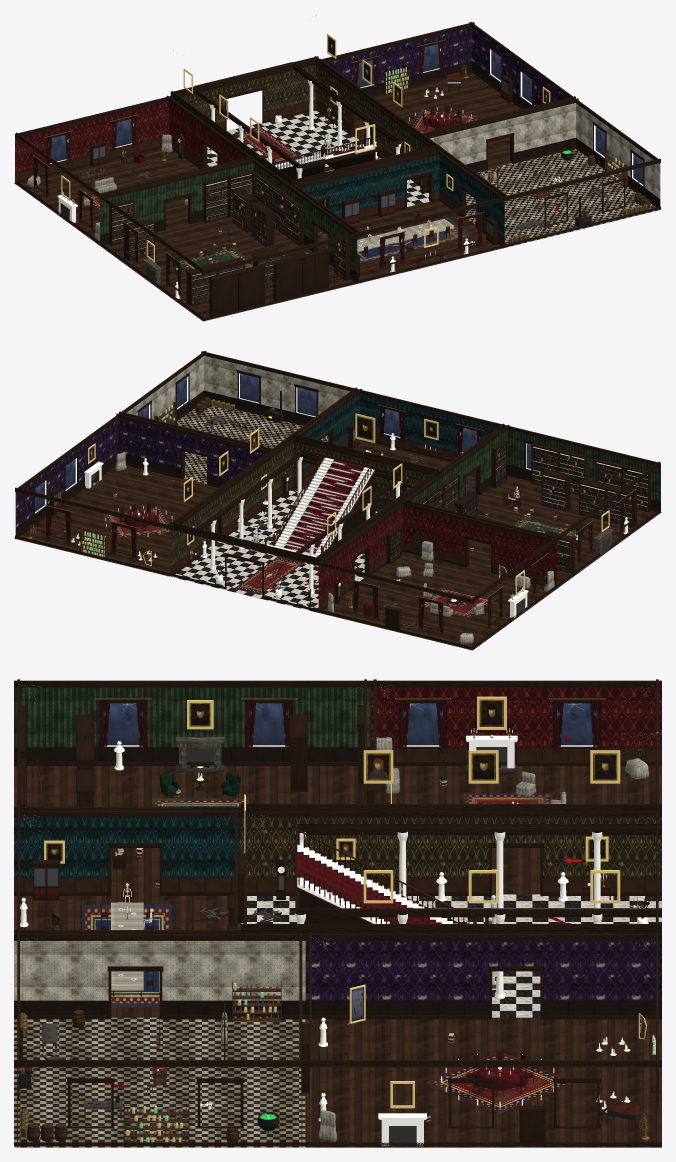
Rendered from house_ground.glb.
3 renders of one model, top to bottom at view 1: azimuth 30°, elevation 25°; view 2: azimuth 150°, elevation 25°; view 3: azimuth 270°, elevation 25°, orthographic. The views are drawn at different scales.
Parts seen in each view (by area): view 1: house_ground; view 2: house_ground; view 3: house_ground.
Boxes of the visible parts, x1=… form: house_ground: x1=14, y1=14, x2=661, y2=321; house_ground: x1=14, y1=351, x2=661, y2=650; house_ground: x1=14, y1=679, x2=661, y2=1147.
Bounding box in the file's own units: 56 × 11.28 × 40.
64 materials, 48 textured.
